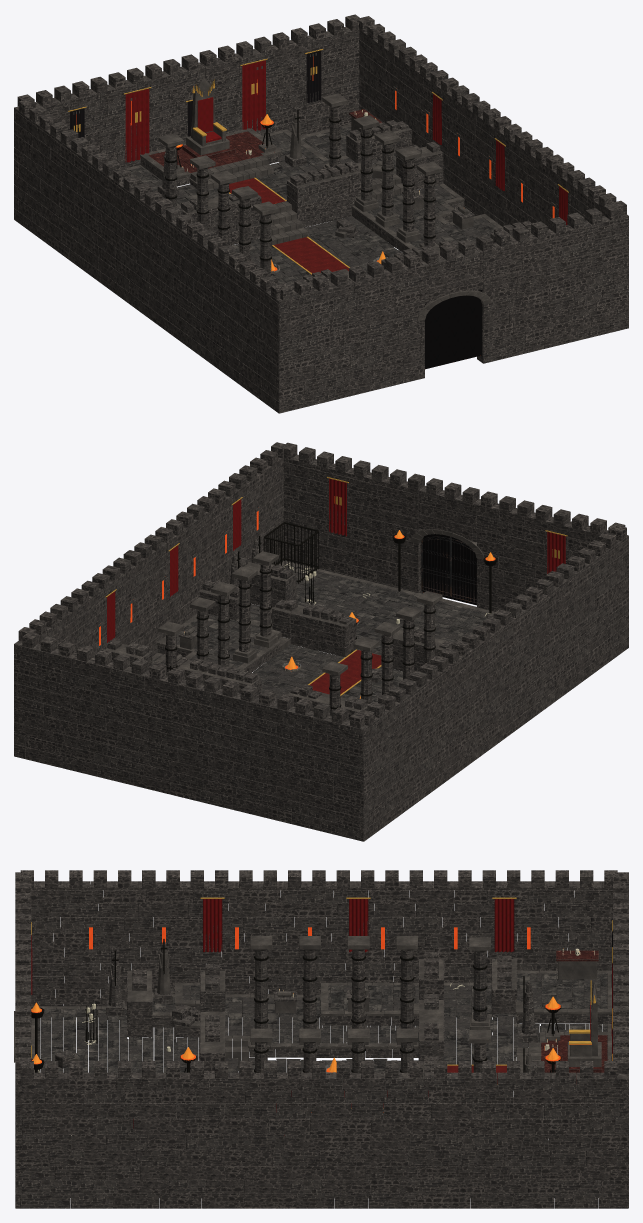
The model's file is ashen_throne.glb.
The picture shows the model from 3 angles, top to bottom: view 1: azimuth 30°, elevation 25°; view 2: azimuth 150°, elevation 25°; view 3: azimuth 270°, elevation 25°; orthographic projection. The views are drawn at different scales.
Parts seen in each view (by area): view 1: Citadel masonry, Ruins, Flags, Props, Iron, Banner, Banner.001, Banner.004, Wall tops 4; view 2: Citadel masonry, Flags, Ruins, Props, Iron, PH large_iron_gate, Banner.012, PH large_iron_gate.001, Wall tops 4, Wall tops 3, Banner.011; view 3: Citadel masonry, Flags, Ruins, Iron, Props, Wall tops 3, Wall tops 4, Banner.010, Banner.006, Banner.008.
Part boxes in pixels (x1,y1,x2,y2): Citadel masonry: [14, 14, 628, 413]; Ruins: [157, 77, 491, 321]; Flags: [126, 126, 497, 284]; Props: [73, 53, 555, 369]; Iron: [68, 49, 568, 275]; Banner: [125, 89, 149, 162]; Banner.001: [242, 60, 265, 131]; Banner.004: [306, 50, 321, 103]; Wall tops 4: [179, 127, 442, 213]; Citadel masonry: [14, 442, 628, 841]; Flags: [152, 563, 494, 702]; Ruins: [158, 529, 493, 715]; Props: [97, 496, 559, 698]; Iron: [105, 477, 567, 709]; PH large_iron_gate: [421, 536, 450, 596]; Banner.012: [329, 478, 346, 536]; PH large_iron_gate.001: [450, 536, 476, 603]; Wall tops 4: [105, 644, 367, 711]; Wall tops 3: [200, 562, 453, 650]; Banner.011: [547, 532, 565, 573]; Citadel masonry: [15, 870, 628, 1208]; Flags: [37, 973, 611, 1186]; Ruins: [14, 936, 601, 1186]; Iron: [31, 897, 612, 1112]; Props: [31, 924, 595, 1112]; Wall tops 3: [127, 970, 224, 1112]; Wall tops 4: [419, 959, 516, 1143]; Banner.010: [494, 899, 514, 952]; Banner.006: [203, 899, 222, 952]; Banner.008: [349, 899, 368, 952].
Bounding box in the file's own units: 19.24 × 6.5 × 25.29.
Materials: 21 (21 with a texture image).
